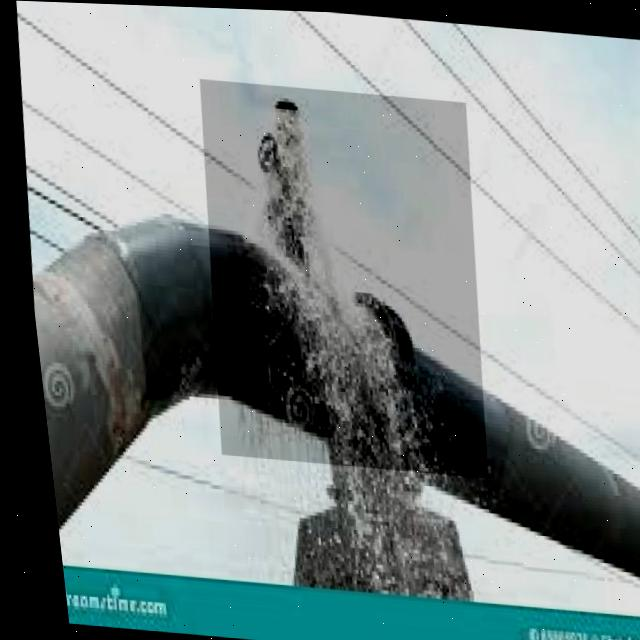corrosion: (181, 82, 505, 479)
